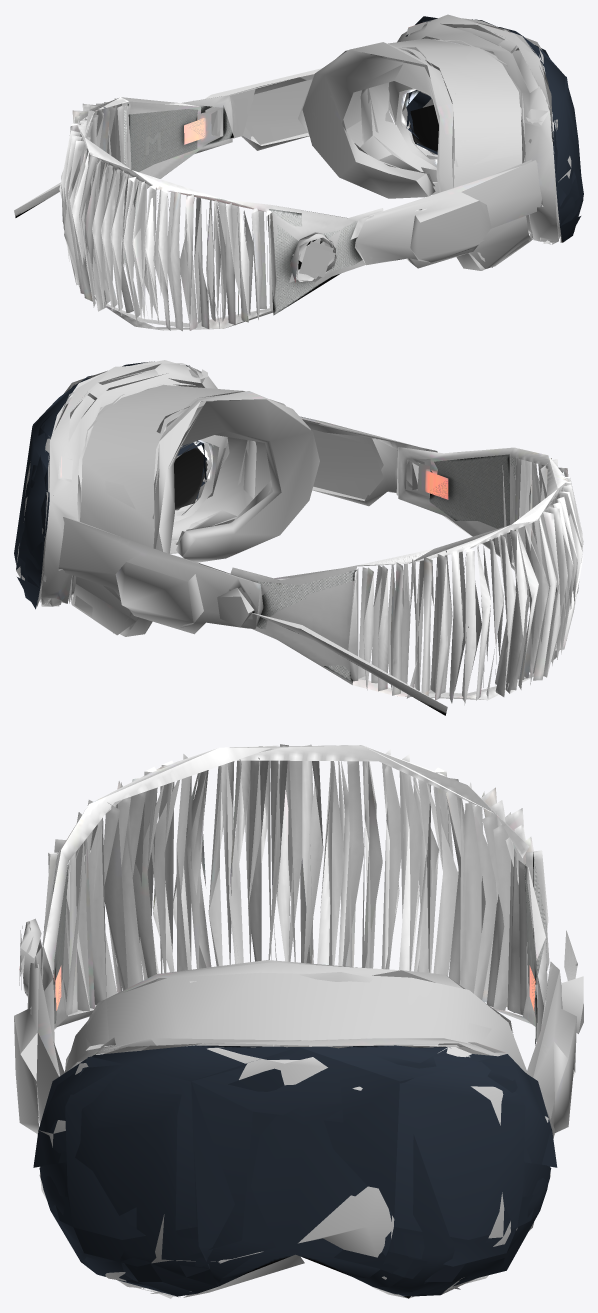
File: apple_vision_pro_2000poly_v2.fbx
The picture shows the model from 3 angles, top to bottom: view 1: azimuth 30°, elevation 25°; view 2: azimuth 150°, elevation 25°; view 3: azimuth 270°, elevation 25°; orthographic projection. The views are drawn at different scales.
Visible parts, largest first — view 1: Mesh_0; view 2: Mesh_0; view 3: Mesh_0.
Boxes of the visible parts, x1,y1,x2,y2 form: Mesh_0: (14,14,583,331); Mesh_0: (14,360,583,715); Mesh_0: (14,744,583,1298).
Size of the model in its own units: 1.36 by 0.4896 by 0.9103.
2 materials, 1 textured.
